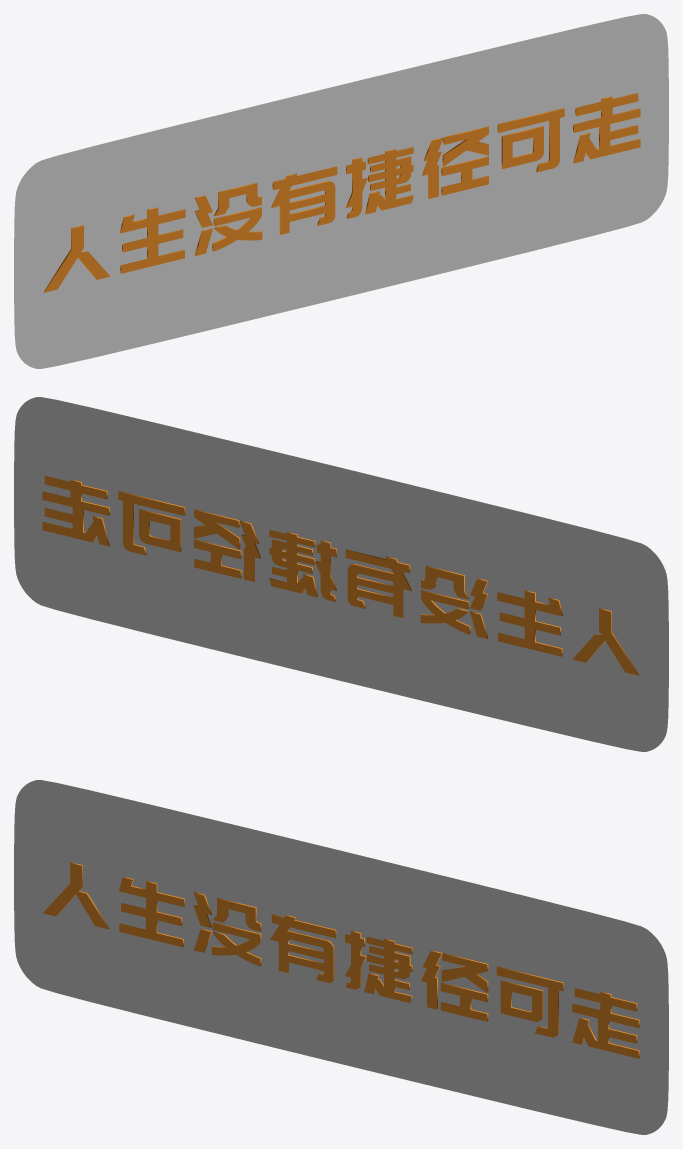
Rendered from 人生没有捷径可走提示牌.fbx.
The picture shows the model from 3 angles, top to bottom: view 1: azimuth 30°, elevation 25°; view 2: azimuth 150°, elevation 25°; view 3: azimuth 330°, elevation 25°; orthographic projection.
Visible parts, largest first — view 1: 平面; view 2: 平面; view 3: 平面.
Boxes of the visible parts, <box> form: 平面: <box>14,14,668,368</box>; 平面: <box>14,397,668,751</box>; 平面: <box>14,780,668,1134</box>.
Size of the model in its own units: 180 by 56.01 by 0.8815.
